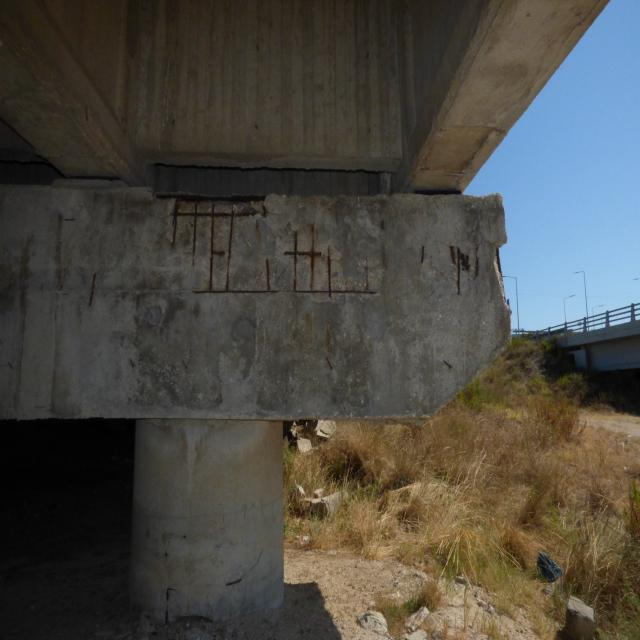corrosion: (143, 190, 386, 304), (414, 234, 483, 304), (84, 265, 102, 310), (64, 216, 76, 222)
